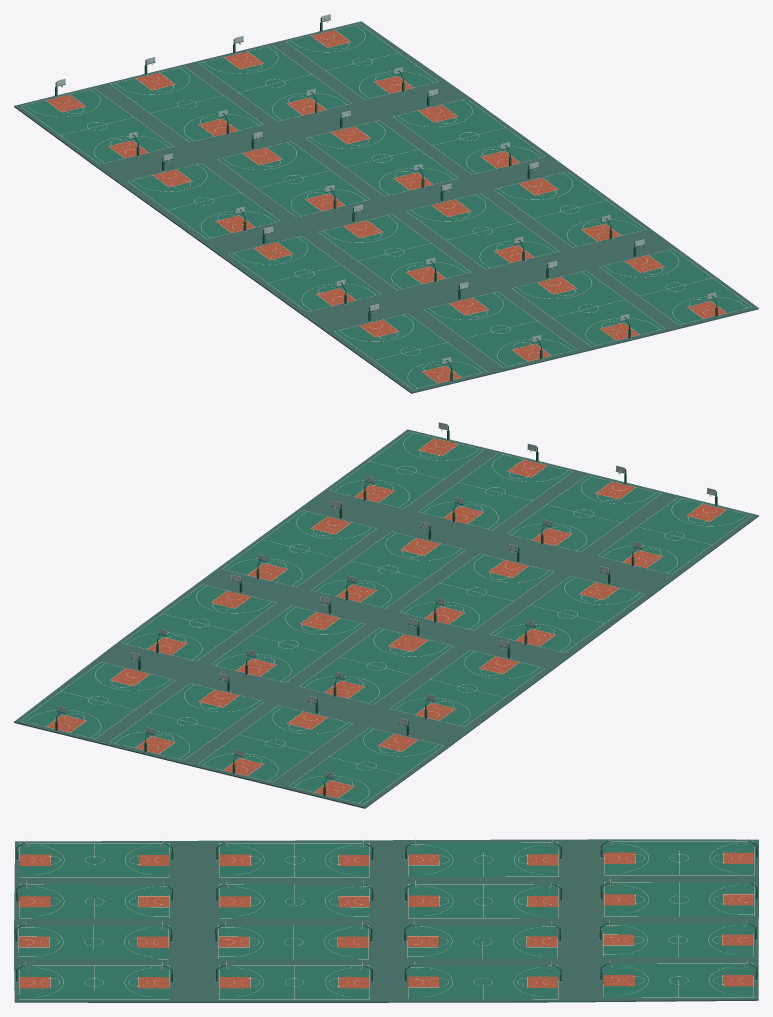
The model's file is basketball-bank-897194442.glb.
3 views of the same model, one above another, from view 1: azimuth 30°, elevation 25°; view 2: azimuth 150°, elevation 25°; view 3: azimuth 270°, elevation 25° (orthographic). The views are drawn at different scales.
Parts seen in each view (by area): view 1: basketball-bank-897194442; view 2: basketball-bank-897194442; view 3: basketball-bank-897194442.
Boxes of the visible parts, x1=… form: basketball-bank-897194442: x1=14, y1=14, x2=758, y2=393; basketball-bank-897194442: x1=14, y1=422, x2=758, y2=808; basketball-bank-897194442: x1=14, y1=837, x2=758, y2=1002.
Size of the model in its own units: 71.85 by 4.2 by 139.
